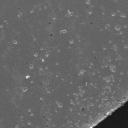corrosion: (54, 99, 64, 110), (108, 63, 117, 73), (114, 23, 123, 32), (57, 27, 67, 35), (77, 70, 86, 78), (65, 9, 74, 17), (29, 63, 37, 71), (22, 85, 30, 93), (24, 73, 32, 80), (11, 38, 19, 45), (110, 10, 117, 18), (67, 39, 74, 46), (32, 51, 39, 58), (86, 9, 94, 15), (101, 45, 107, 52), (68, 107, 73, 113), (27, 107, 32, 113), (40, 58, 45, 63)
